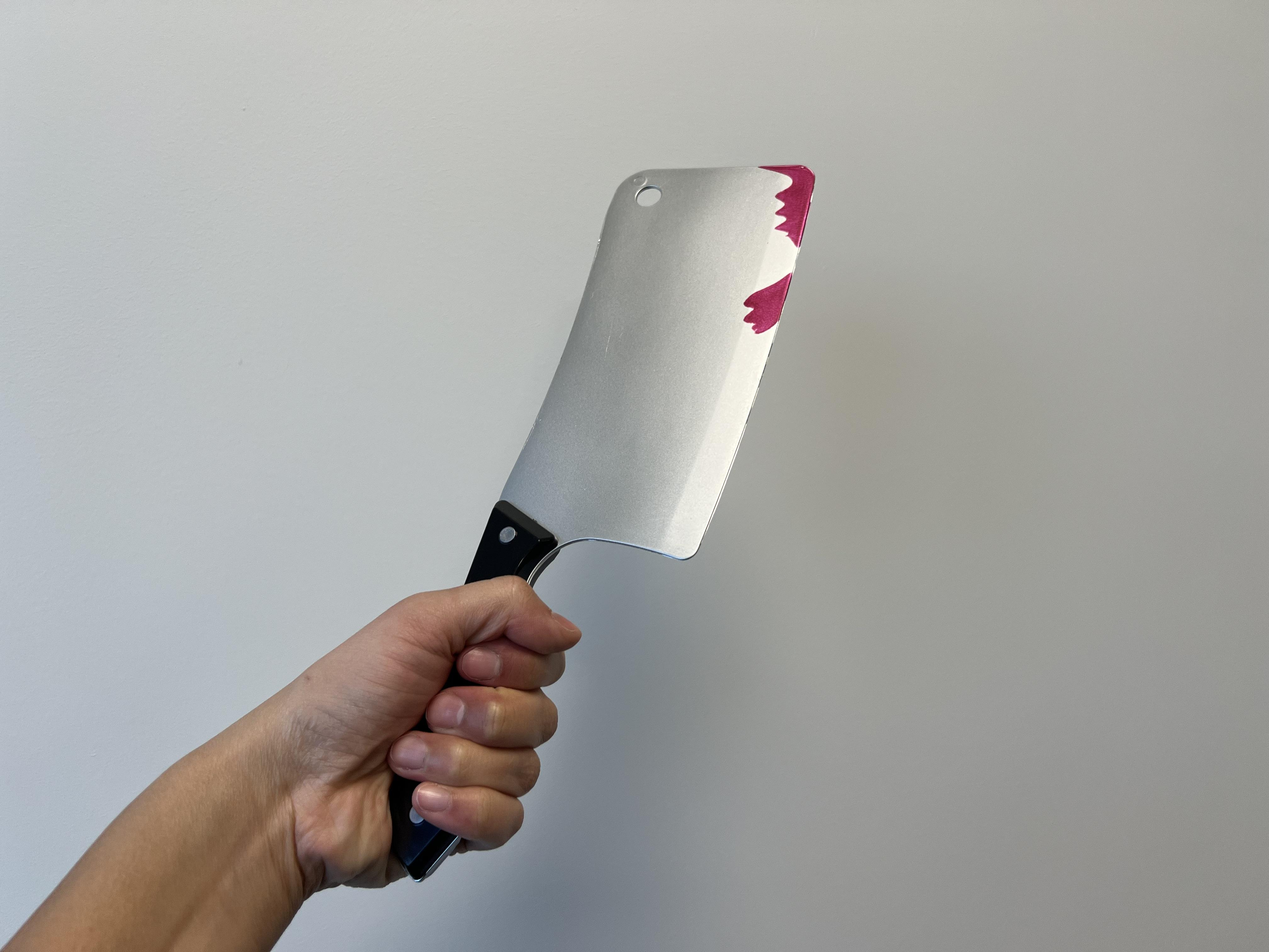Knife: (0, 572, 583, 952), (470, 163, 817, 591), (292, 574, 578, 889)
